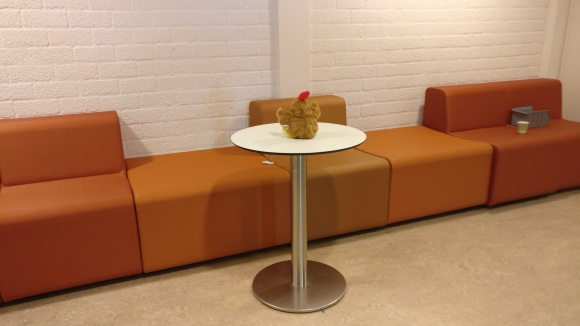chicken: (275, 89, 322, 140)
